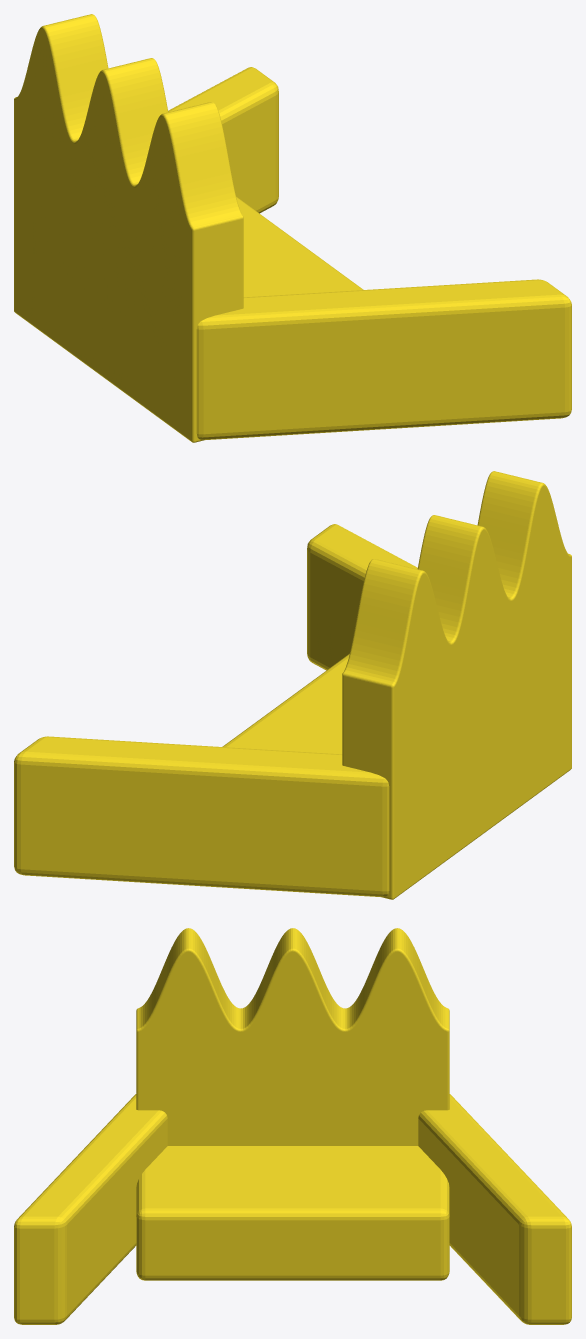
File: openscad_customizable-furniture-minis_L3_Q1__gpt61_sol.glb
The picture shows the model from 3 angles, top to bottom: view 1: azimuth 30°, elevation 25°; view 2: azimuth 150°, elevation 25°; view 3: azimuth 270°, elevation 25°; orthographic projection. The views are drawn at different scales.
Parts seen in each view (by area): view 1: object; view 2: object; view 3: object.
Boxes of the visible parts, box(x1,y1,x2,y2) form: object: box(14, 14, 571, 442); object: box(14, 471, 571, 899); object: box(14, 928, 571, 1324).
Size of the model in its own units: 27.43 by 25.91 by 48.88.
